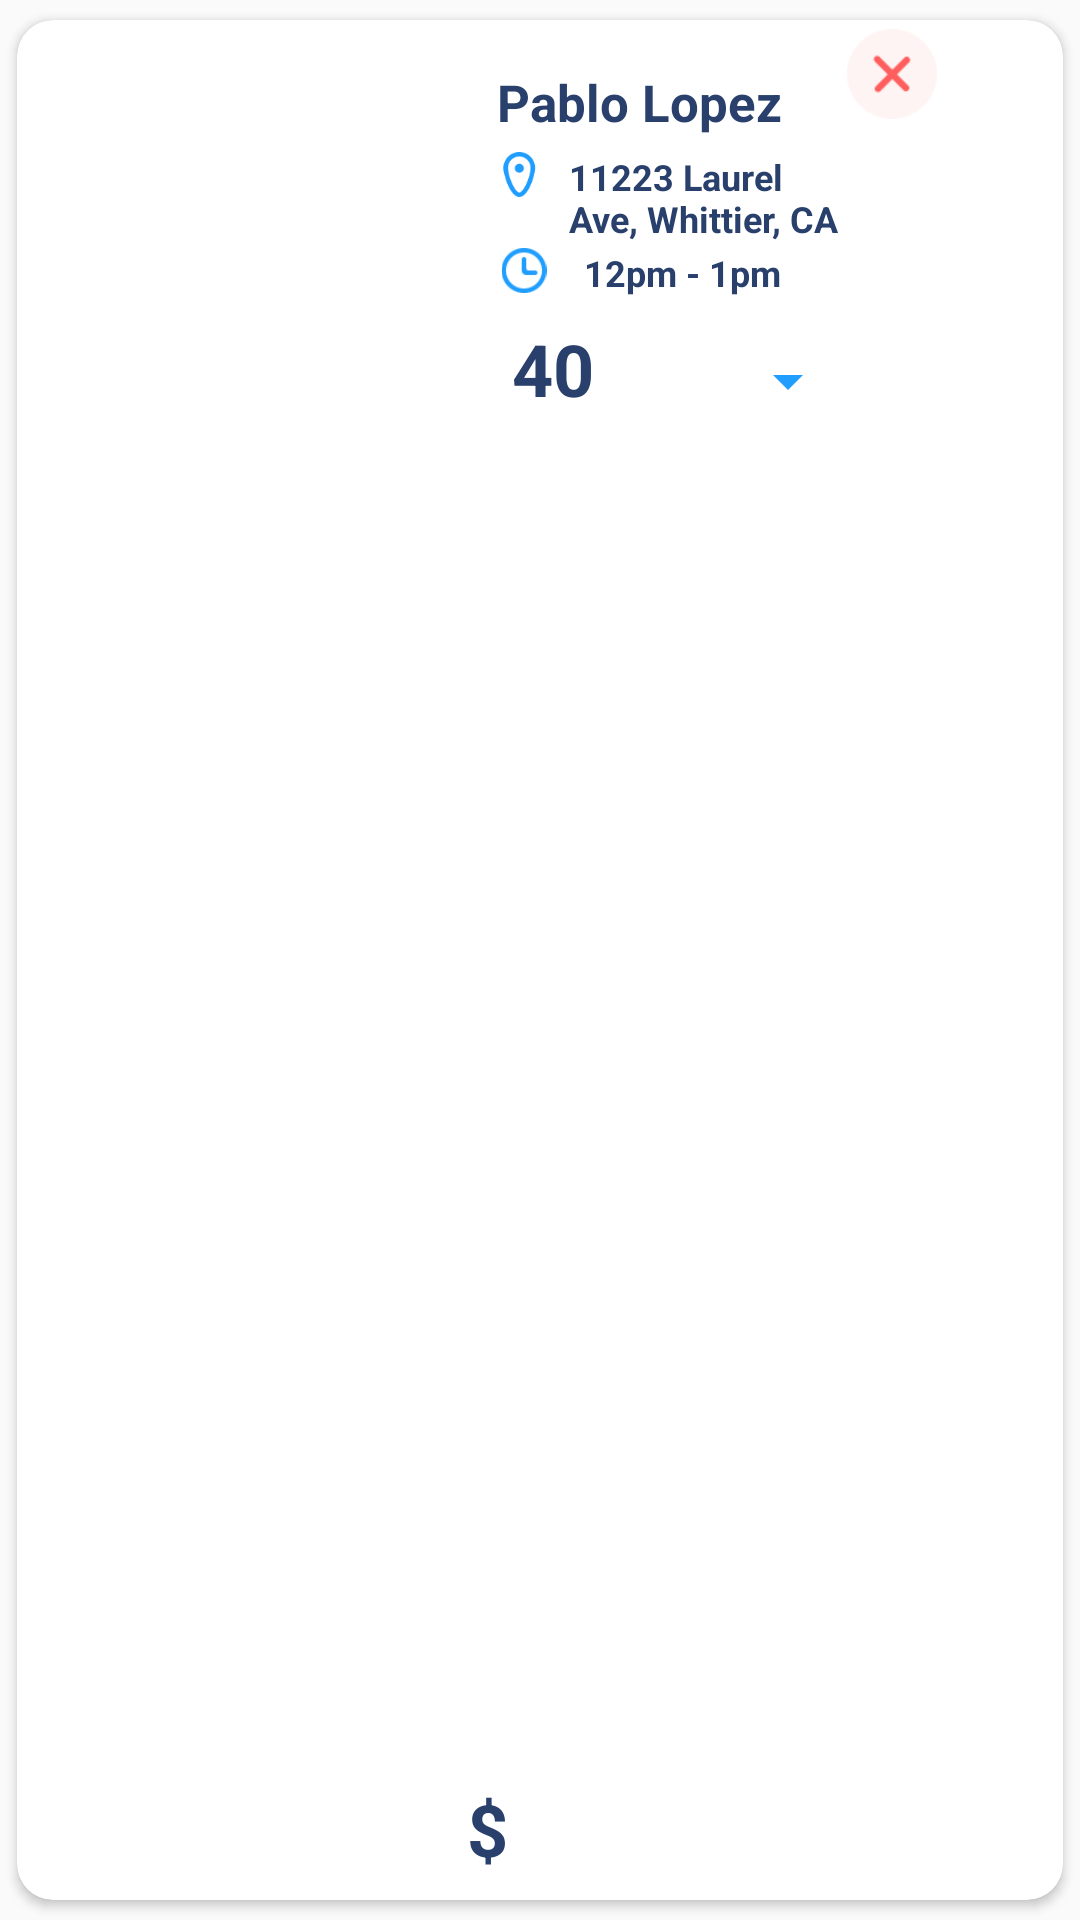

Icons on this 1080px×1920px Android screen, each with its box as (x1, y1, x2, y2):
cancelcircle: (873, 55, 911, 93)
locationicon: (503, 152, 536, 197)
timeicon: (502, 248, 547, 293)
